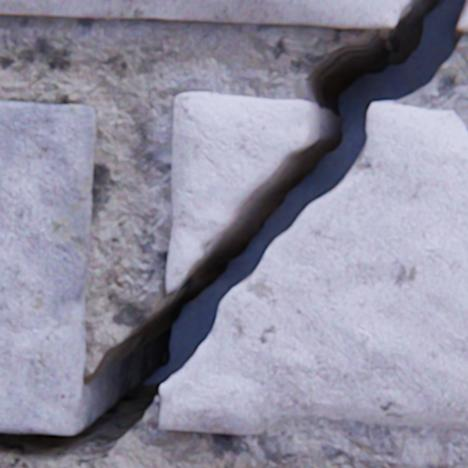brick: (0, 103, 96, 434)
broken_brick: (159, 104, 467, 433), (166, 93, 310, 293), (0, 0, 412, 29), (458, 4, 467, 32)
crack: (0, 0, 467, 466)
